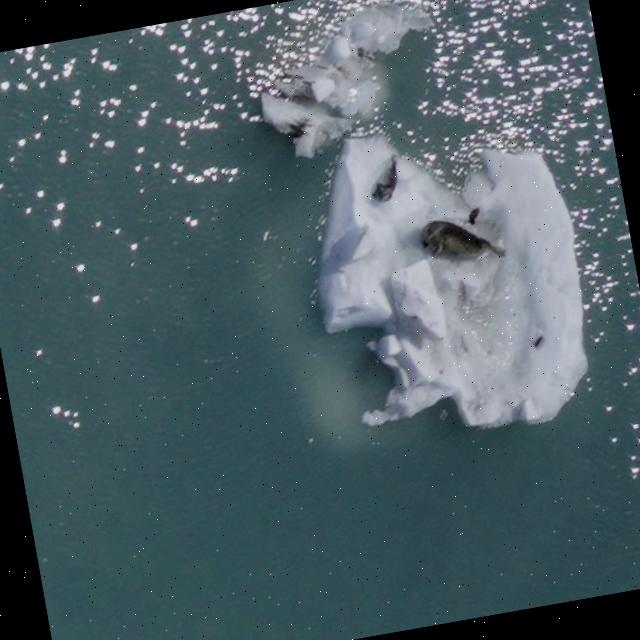seal: (414, 214, 508, 283), (368, 154, 410, 205)
